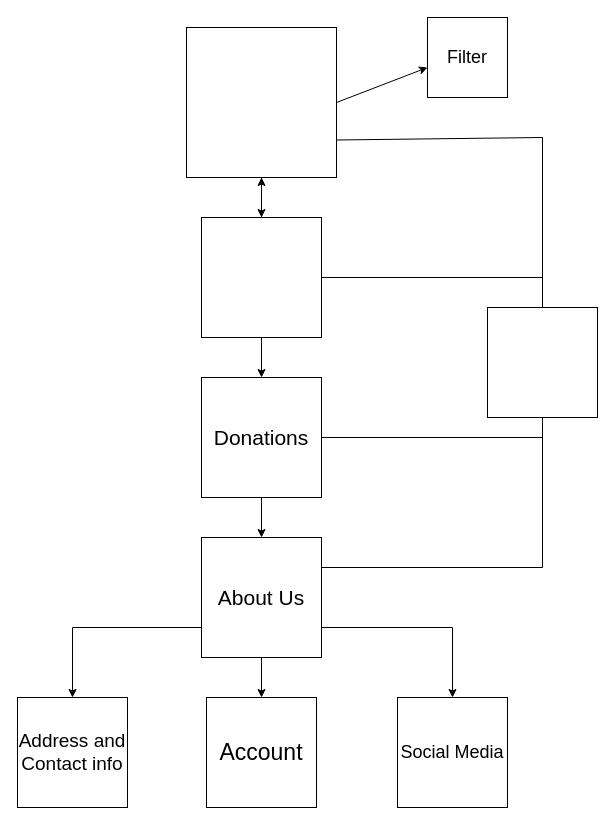
Some shapes in this 615 by 825 pixel diagram are drawn without their labels. Each missing label, with the centre of its shape:
"The Barrie Art Gallery" goes at point (261, 102).
"Tickets" goes at point (542, 362).
"Up Coming Events" goes at point (261, 277).
